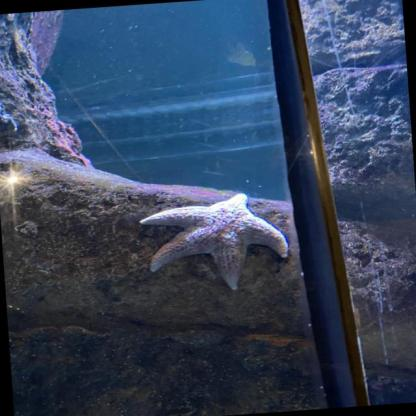starfish: (138, 191, 290, 297)
